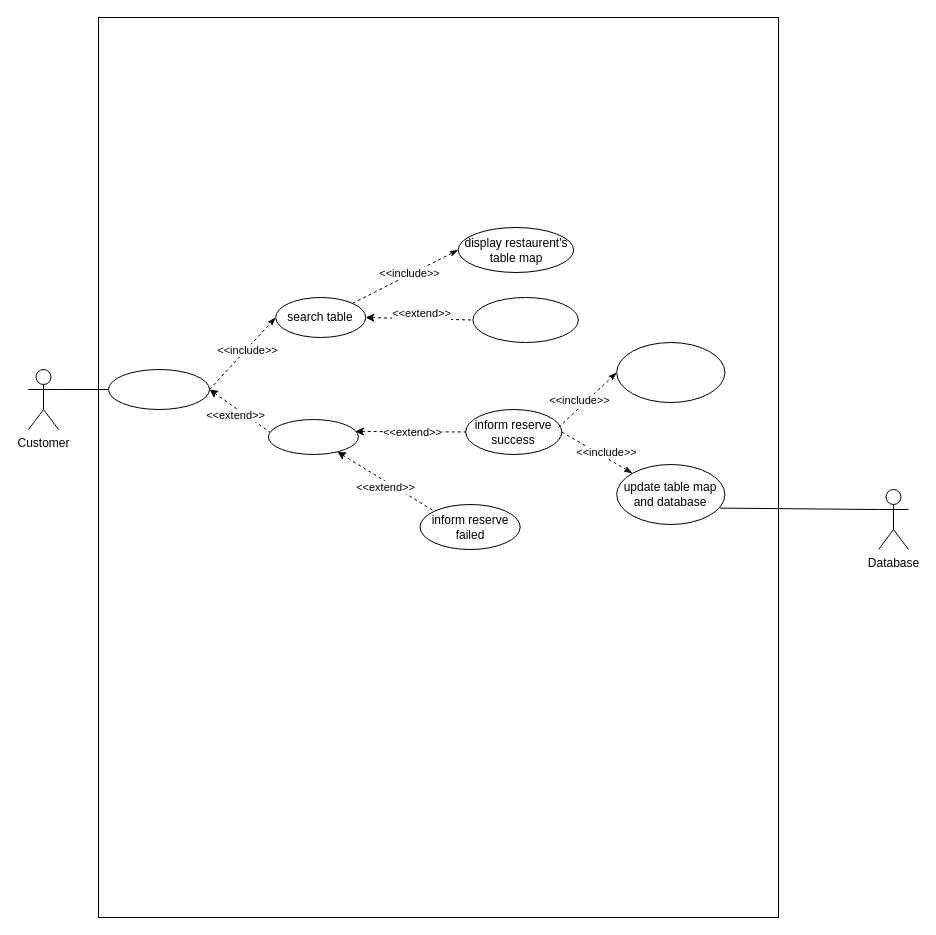
The diagram is 936 pixels wide and 935 high, and some of its shapes have lost their labels. The centre of each missing label's shape, as x and y in pixels:
"confirm book table" goes at point 312,436.
"Inform no availd table" goes at point 525,319.
"Reserve table" goes at point 159,389.
"Send e-mail to customer" goes at point 670,372.
